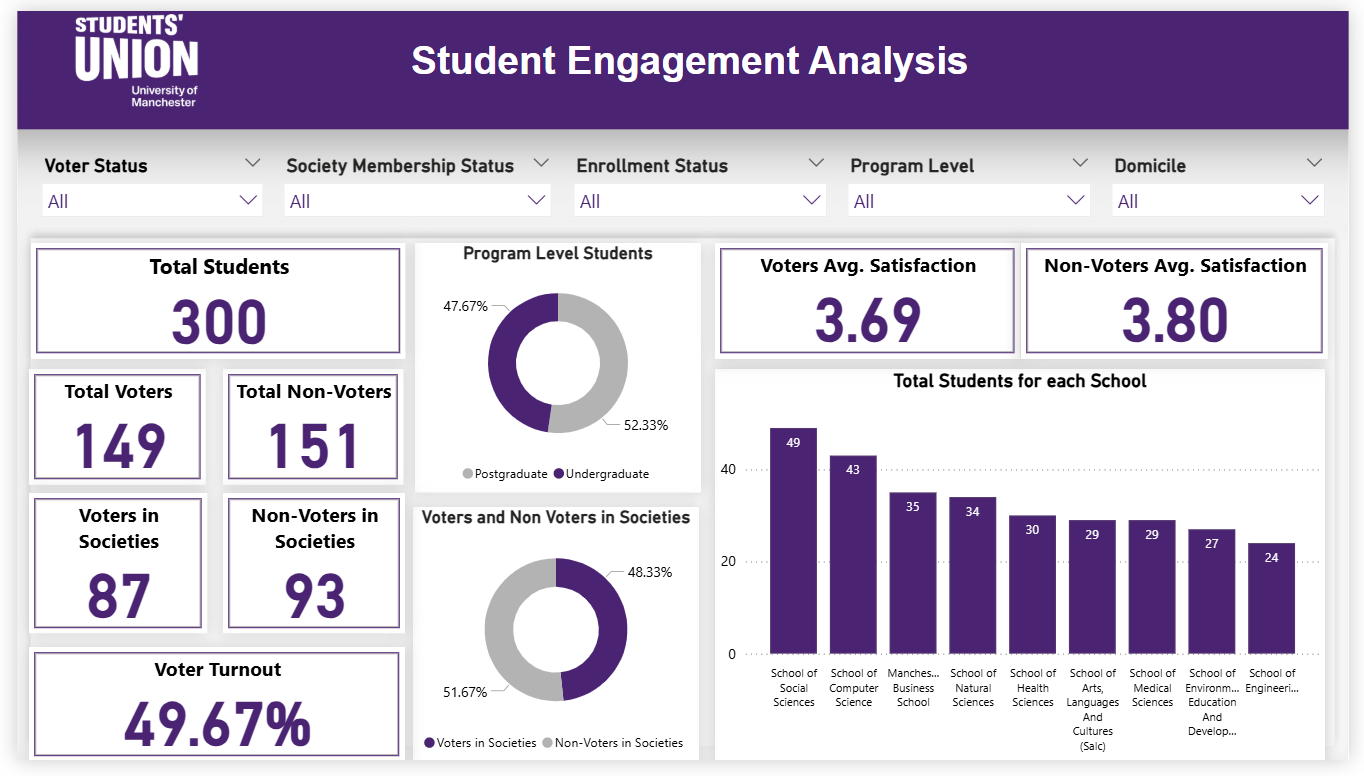

The page's visual inventory and layout, read from the dashboard file:
{"tool":"powerbi","page":{"name":"Page 1","canvas":[1280,720],"ordinal":0},"visuals":[{"type":"shape","box":[0,205,1280,515],"z":0},{"type":"columnChart","title":"Total Students for each School","fields":{"Category":["student_population.School"],"Y":["Measures_calculations.Total Students"]},"box":[671.7,343.3,586.7,376.7],"z":1000},{"type":"slicer","fields":{"Values":["election_data.Voter Status"]},"box":[12.7,131.9,233.6,90.6],"z":2000},{"type":"slicer","fields":{"Values":["society_membership.membership_status"]},"box":[246.4,131.9,278.1,90.6],"z":3000},{"type":"slicer","fields":{"Values":["student_population.Enrollment_status"]},"box":[524.5,131.9,263.8,90.6],"z":4000},{"type":"slicer","fields":{"Values":["student_population.Program_level"]},"box":[788.3,131.9,254.3,74.7],"z":5000},{"type":"slicer","fields":{"Values":["student_population.Domicile"]},"box":[1042.6,131.9,225.7,74.7],"z":6000},{"type":"donutChart","title":"Program Level Students","fields":{"Category":["student_population.Program_level"],"Y":["Measures_calculations.Total Students"]},"box":[383.3,223.3,275,240],"z":7000},{"type":"donutChart","title":"Voters and Non Voters in Societies","fields":{"Y":["Measures_calculations.Voters in Societies","Measures_calculations.Non-Voters in Societies"]},"box":[381.7,476.7,275,245],"z":8000},{"type":"cardVisual","fields":{"Data":["Measures_calculations.Total Voters"]},"box":[11.7,343.3,170,111.7],"z":9000},{"type":"cardVisual","fields":{"Data":["Measures_calculations.Total Non-Voters"]},"box":[198.3,345,173.3,111.7],"z":10000},{"type":"cardVisual","fields":{"Data":["Measures_calculations.Voters in Societies"]},"box":[11.7,463.3,171.7,135],"z":11000},{"type":"cardVisual","fields":{"Data":["Measures_calculations.Non-Voters in Societies"]},"box":[198.3,463.3,175,135],"z":12000},{"type":"cardVisual","fields":{"Data":["Measures_calculations.Voters Avg. Satisfaction"]},"box":[671.7,223.3,293.3,111.7],"z":13000},{"type":"cardVisual","fields":{"Data":["Measures_calculations.Non-Voters Avg. Satisfaction"]},"box":[965,223.3,295,111.7],"z":14000},{"type":"cardVisual","fields":{"Data":["Measures_calculations.Total Students"]},"box":[13.3,223.3,360,111.7],"z":15000},{"type":"cardVisual","fields":{"Data":["Measures_calculations.Voter Turnout %"]},"box":[11.7,611.7,361.7,110],"z":16000}]}

Visuals, with their boxes in screenshot pixels (x1, y1, x2, y2), scaled from the page's 1280x720 canvas onto the 1364x776 screenshot:
shape: [0, 221, 1363, 775]
"Total Students for each School" columnChart: [716, 370, 1341, 775]
slicer - election_data.Voter Status: [14, 142, 262, 240]
slicer - society_membership.membership_status: [263, 142, 559, 240]
slicer - student_population.Enrollment_status: [559, 142, 840, 240]
slicer - student_population.Program_level: [840, 142, 1111, 223]
slicer - student_population.Domicile: [1111, 142, 1352, 223]
"Program Level Students" donutChart: [408, 241, 702, 499]
"Voters and Non Voters in Societies" donutChart: [407, 514, 700, 775]
cardVisual - Measures_calculations.Total Voters: [12, 370, 194, 490]
cardVisual - Measures_calculations.Total Non-Voters: [211, 372, 396, 492]
cardVisual - Measures_calculations.Voters in Societies: [12, 499, 195, 645]
cardVisual - Measures_calculations.Non-Voters in Societies: [211, 499, 398, 645]
cardVisual - Measures_calculations.Voters Avg. Satisfaction: [716, 241, 1028, 361]
cardVisual - Measures_calculations.Non-Voters Avg. Satisfaction: [1028, 241, 1343, 361]
cardVisual - Measures_calculations.Total Students: [14, 241, 398, 361]
cardVisual - Measures_calculations.Voter Turnout %: [12, 659, 398, 775]
